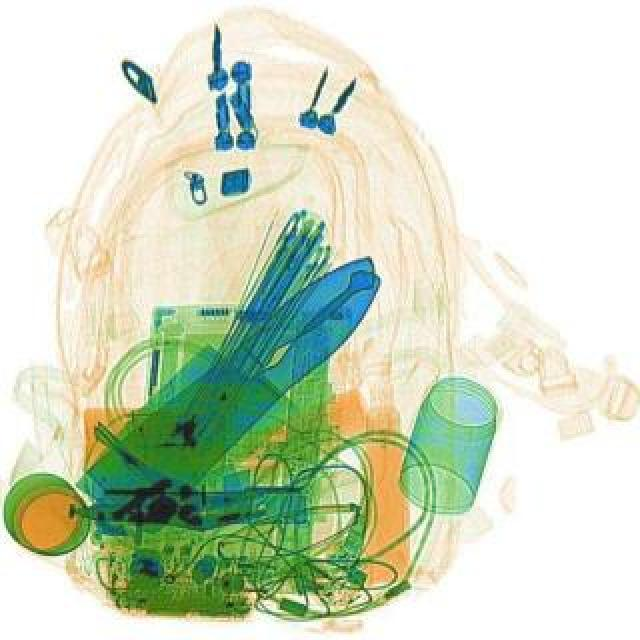knife: (80, 232, 420, 540), (68, 224, 396, 542)
